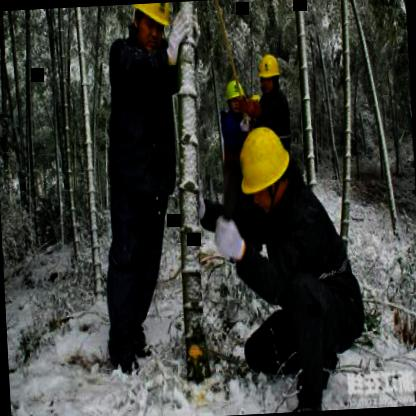helmet: (236, 122, 296, 218), (129, 2, 176, 54), (256, 50, 284, 92), (224, 76, 246, 114)
